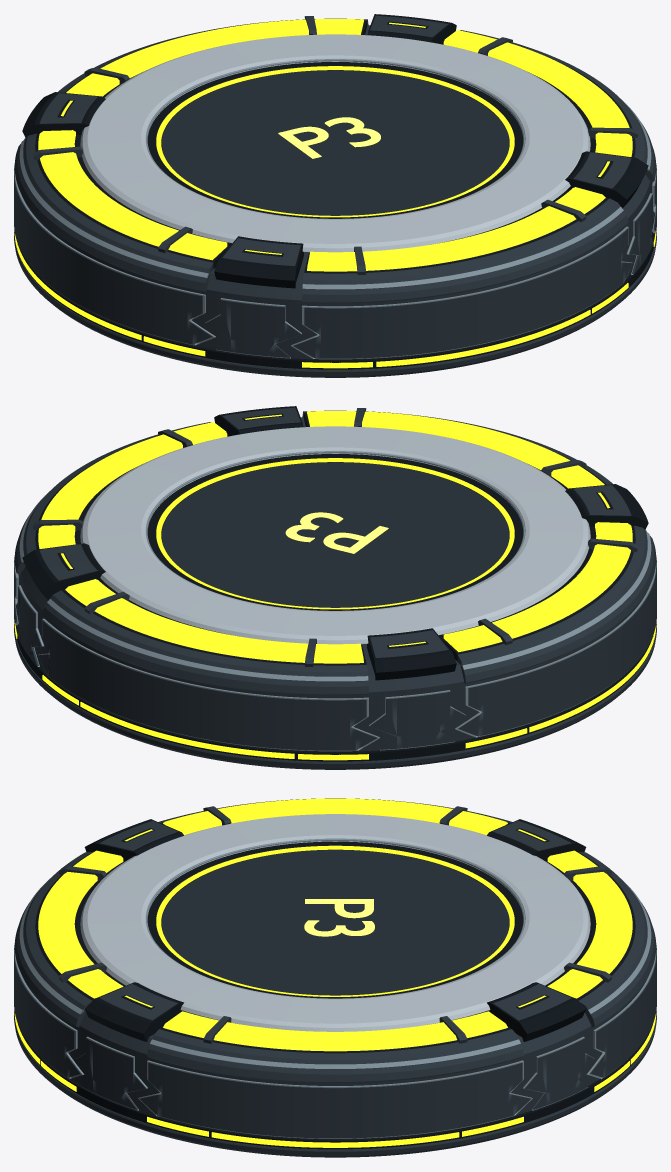
The model's file is Bouncer.fbx.
3 renders of one model, top to bottom at view 1: azimuth 30°, elevation 25°; view 2: azimuth 150°, elevation 25°; view 3: azimuth 270°, elevation 25°, orthographic.
Visible parts, largest first — view 1: SM_Puck_Bouncer_P3_HighDetail; view 2: SM_Puck_Bouncer_P3_HighDetail; view 3: SM_Puck_Bouncer_P3_HighDetail.
Part boxes in pixels (x1,y1,x2,y2): SM_Puck_Bouncer_P3_HighDetail: (14, 14, 656, 377); SM_Puck_Bouncer_P3_HighDetail: (14, 406, 656, 769); SM_Puck_Bouncer_P3_HighDetail: (14, 798, 656, 1157).
Size of the model in its own units: 86.5 by 86.5 by 16.1.
